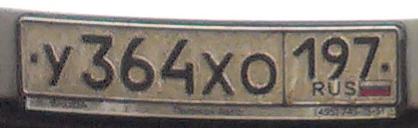character: (158, 36, 198, 99), (77, 32, 118, 92), (118, 35, 157, 93), (239, 48, 279, 101), (199, 48, 238, 99), (39, 39, 72, 90), (321, 35, 352, 87), (351, 33, 380, 82), (291, 35, 319, 84)
